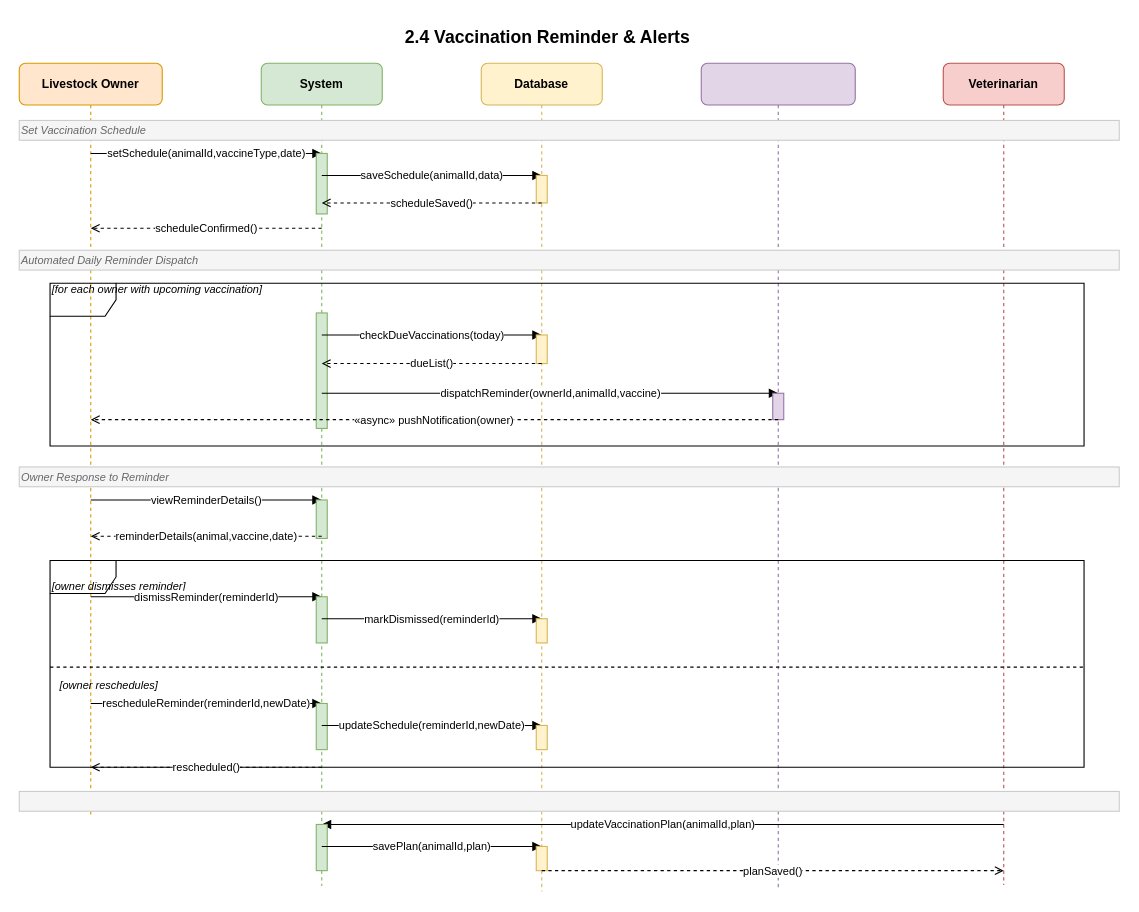
This 1139x912 diagram has some shape labels left out. Here are the shapes that lost their labels. From the top down, the box of each, then its label:
(700, 62, 855, 105): Notification Service
(49, 282, 1084, 446): loop [daily job — for each due vaccination]
(49, 559, 1084, 767): alt
(18, 790, 1119, 811): Veterinarian Manages Vaccination Schedule
